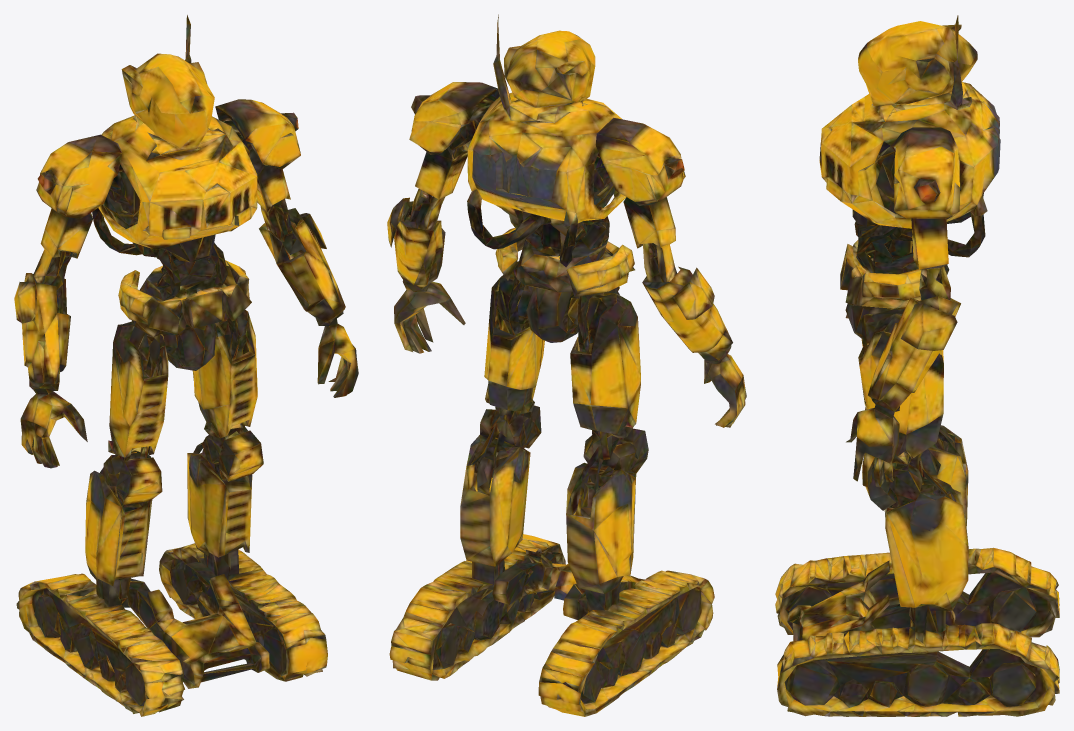
Rendered from mender_unit.glb.
The picture shows the model from 3 angles, left to right: view 1: azimuth 30°, elevation 25°; view 2: azimuth 150°, elevation 25°; view 3: azimuth 270°, elevation 25°; orthographic projection. The views are drawn at different scales.
Bounding box in the file's own units: 1.05 × 1.9 × 0.7267.
1 material, 1 textured.
